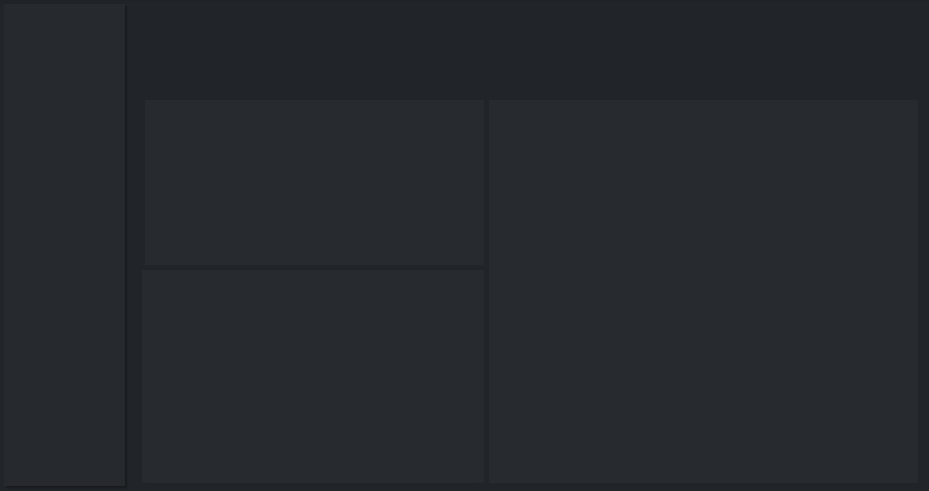

What the dashboard file says about the page in this screenshot:
{"tool":"powerbi","page":{"name":"Customer Relations","canvas":[1280,720],"ordinal":0},"visuals":[{"type":"textbox","box":[191.1,66.1,590.7,57.5],"z":0},{"type":"pageNavigator","box":[168.1,110.7,639.5,50.3],"z":1000},{"type":"barChart","fields":{"Y":["Sum(Sheet2.Quantity)"],"Series":["Sheet2.Customer Title"],"Category":["Sheet2.Item Title"]},"box":[202.6,195.4,753.1,198.3],"z":2000},{"type":"textbox","box":[214.1,163.8,517.4,46],"z":3000},{"type":"columnChart","fields":{"Y":["Sum(Sheet2.Gross Amount)"],"Series":["Sheet2.Item Title"],"Category":["Sheet2.Unit Title"]},"box":[678.3,393.8,277.4,290.3],"z":4000},{"type":"kpi","fields":{"Indicator":["Sum(Sheet5.Gross Amount)"],"TrendLine":["Sheet5.Currency Title"]},"box":[985.9,66.1,277.4,165.3],"z":5000},{"type":"kpi","fields":{"Indicator":["Sum(Sheet5.Gross Amount)"],"TrendLine":["Sheet5.Category Title"]},"box":[993.1,284.6,264.4,171],"z":6000},{"type":"kpi","fields":{"Indicator":["Sum(Sheet5.Quantity)"],"TrendLine":["Sheet5.Class Title"]},"box":[993.1,488.6,261.6,181.1],"z":7000},{"type":"columnChart","fields":{"Category":["Sheet6.City"],"Y":["Sum(Sheet6.qty)"],"Series":["Sheet6.Customer"]},"box":[198.3,441.2,464.2,242.9],"z":8000},{"type":"textbox","box":[198.3,393.8,399.5,44.6],"z":9000},{"type":"textbox","box":[678.3,393.8,270.2,54.6],"z":10000}]}

Visuals, with their boxes on the page's 1280x720 design canvas (x1, y1, x2, y2). These are canvas units, not pixel positions in the 929x491 screenshot, which may show the page scaled, cropped or inside an application window:
textbox: bbox=[191, 66, 782, 124]
pageNavigator: bbox=[168, 111, 808, 161]
barChart - Sum(Sheet2.Quantity) x Sheet2.Customer Title: bbox=[203, 195, 956, 394]
textbox: bbox=[214, 164, 732, 210]
columnChart - Sum(Sheet2.Gross Amount) x Sheet2.Item Title: bbox=[678, 394, 956, 684]
kpi - Sum(Sheet5.Gross Amount) x Sheet5.Currency Title: bbox=[986, 66, 1263, 231]
kpi - Sum(Sheet5.Gross Amount) x Sheet5.Category Title: bbox=[993, 285, 1258, 456]
kpi - Sum(Sheet5.Quantity) x Sheet5.Class Title: bbox=[993, 489, 1255, 670]
columnChart - Sheet6.City x Sum(Sheet6.qty): bbox=[198, 441, 662, 684]
textbox: bbox=[198, 394, 598, 438]
textbox: bbox=[678, 394, 948, 448]
